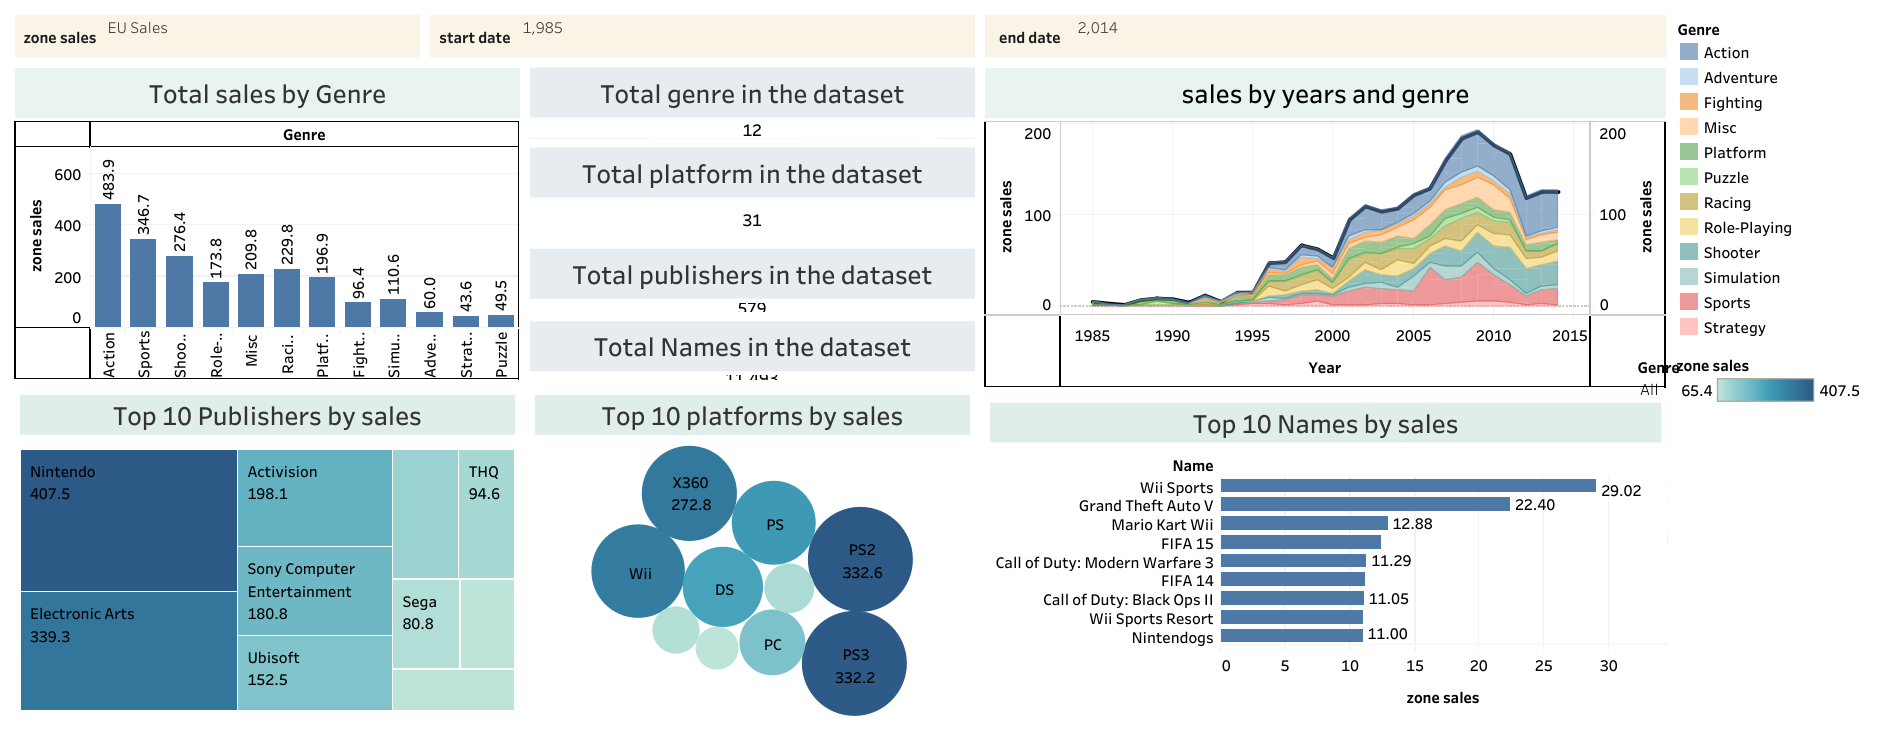

What the dashboard file says about the page in this screenshot:
{"tool":"tableau","page":{"name":"Dashboard 1","canvas":[1000,1000],"units":"permille","ordinal":0},"visuals":[{"type":"parameter","param":"[Parameters].[Parameter 1]","box":[6,11.8,216.8,72.2]},{"type":"parameter","param":"[Parameters].[Parameter 2]","box":[222.8,11.8,289.6,72.2]},{"type":"parameter","param":"[Parameters].[Parameter 3]","box":[512.5,11.8,360.8,72.2]},{"type":"legend","title":"sales by years and genre","param":"[federated.17ccph305qaw2b19x2qtf0yg05ca].[none:Genre:nk]","box":[873.2,11.8,120.8,391.8]},{"type":"worksheet","title":"Total sales by Genre","mark":"Automatic","rows":["Calculation_1429048466206388224"],"cols":["Genre"],"box":[6,84,268.7,441.8]},{"type":"worksheet","title":"Total genre in the dataset ","mark":"Automatic","box":[274.7,84,237.7,110.5]},{"type":"worksheet","title":"sales by years and genre","mark":"Automatic","rows":["Calculation_1429048466206388224","Calculation_1429048466206388224"],"cols":["Year"],"box":[512.5,84,360.8,452.1]},{"type":"worksheet","title":"Total platform in the dataset ","mark":"Automatic","box":[274.7,194.4,237.7,138.4]},{"type":"worksheet","title":"Total publishers in the dataset","mark":"Automatic","box":[274.7,332.8,237.7,100.2]},{"type":"legend","title":"Top 10 Publishers by sales ","param":"[federated.17ccph305qaw2b19x2qtf0yg05ca].[sum:Calculation_1429048466206388224:qk","box":[873.2,403.5,120.8,95.7]},{"type":"worksheet","title":"Total Names in the dataset","mark":"Automatic","box":[274.7,433,237.7,92.8]},{"type":"filter","title":"sales by years and genre","param":"[federated.17ccph305qaw2b19x2qtf0yg05ca].[none:Genre:nk]","box":[870.2,484.5,126.8,76.6]},{"type":"worksheet","title":"Top 10 Publishers by sales ","mark":"Automatic","box":[6,525.8,268.7,462.4]},{"type":"worksheet","title":"Top 10 platforms by sales ","mark":"Circle","box":[274.7,525.8,237.7,462.4]},{"type":"worksheet","title":"Top 10 Names by sales","mark":"Automatic","rows":["Name"],"cols":["Calculation_1429048466206388224"],"box":[512.5,536.1,360.8,452.1]}]}

Visuals, with their boxes on the dashboard's canvas, which has no fixed pixel size, in thousandths of its width and height (x1, y1, x2, y2). These are canvas units, not pixel positions in the 1880x730 screenshot, which may show the page scaled, cropped or inside an application window:
parameter: pyautogui.locateOnScreen(6, 12, 223, 84)
parameter: pyautogui.locateOnScreen(223, 12, 512, 84)
parameter: pyautogui.locateOnScreen(512, 12, 873, 84)
"sales by years and genre" legend: pyautogui.locateOnScreen(873, 12, 994, 404)
"Total sales by Genre" worksheet: pyautogui.locateOnScreen(6, 84, 275, 526)
"Total genre in the dataset " worksheet: pyautogui.locateOnScreen(275, 84, 512, 194)
"sales by years and genre" worksheet: pyautogui.locateOnScreen(512, 84, 873, 536)
"Total platform in the dataset " worksheet: pyautogui.locateOnScreen(275, 194, 512, 333)
"Total publishers in the dataset" worksheet: pyautogui.locateOnScreen(275, 333, 512, 433)
"Top 10 Publishers by sales " legend: pyautogui.locateOnScreen(873, 404, 994, 499)
"Total Names in the dataset" worksheet: pyautogui.locateOnScreen(275, 433, 512, 526)
"sales by years and genre" filter: pyautogui.locateOnScreen(870, 484, 997, 561)
"Top 10 Publishers by sales " worksheet: pyautogui.locateOnScreen(6, 526, 275, 988)
"Top 10 platforms by sales " worksheet (Circle marks): pyautogui.locateOnScreen(275, 526, 512, 988)
"Top 10 Names by sales" worksheet: pyautogui.locateOnScreen(512, 536, 873, 988)
